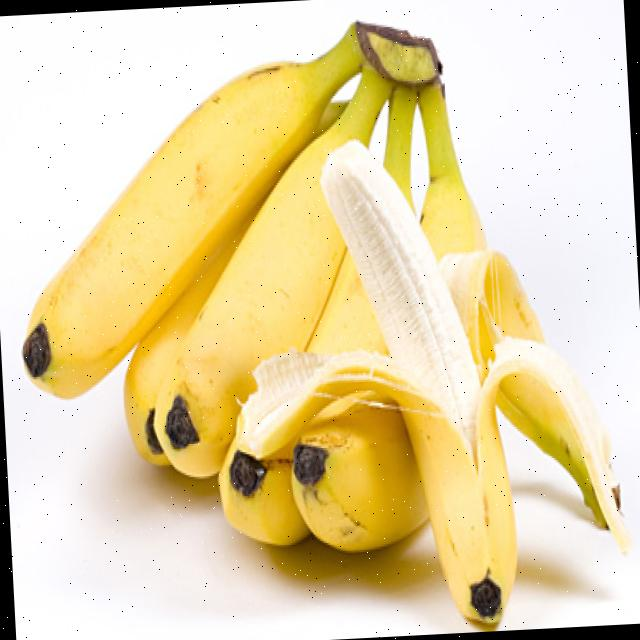Pisang: (203, 124, 635, 640), (107, 14, 500, 485), (5, 19, 383, 402)
